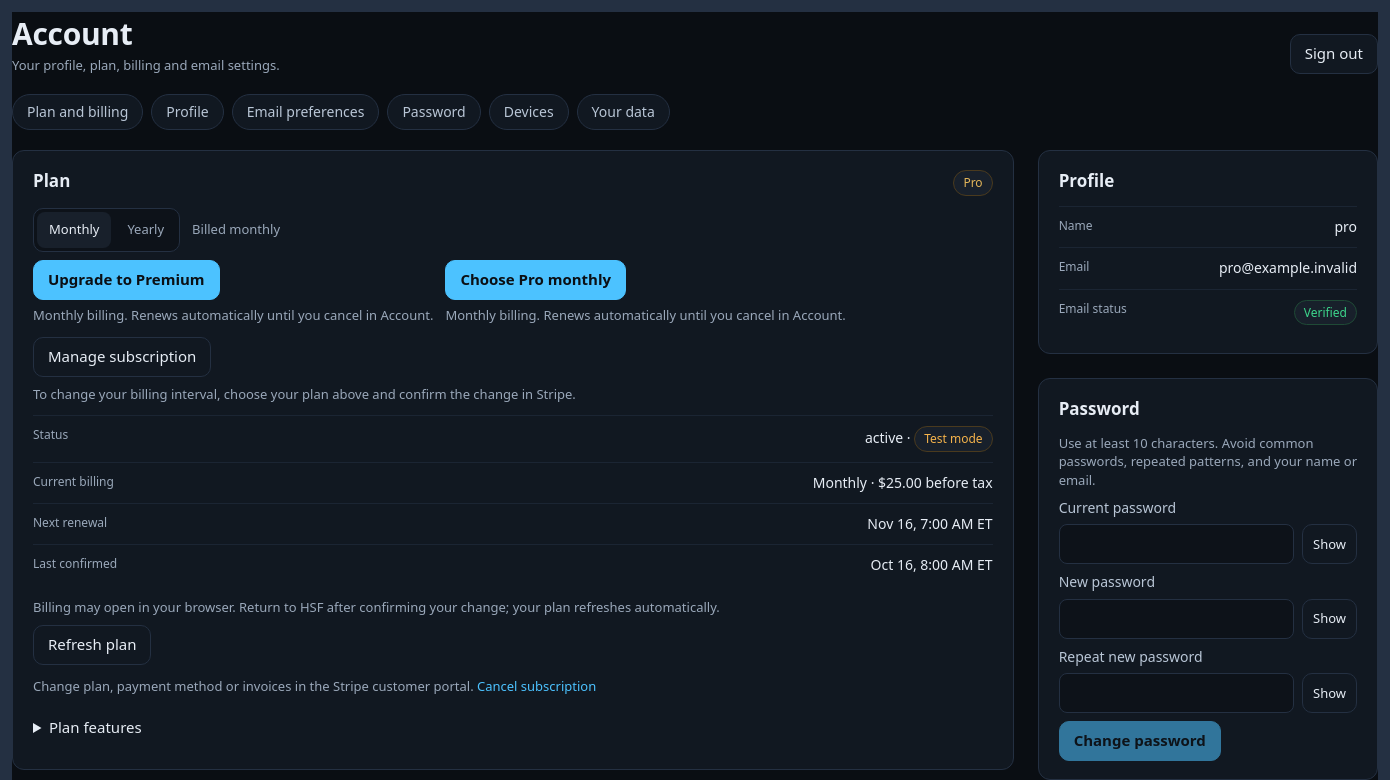
it: Account › shows the confirmed billing interval and renewal date independently of the next checkout choice
The image size is (1390, 780).
Expected: the text "Monthly · $25.00 before tax" is shown, [813,473,993,493]
Expected: the text "Next renewal" is shown, [33,514,107,534]
Step 1. Click the radio button labelled "Yearly" → (146,229), box [127,220,164,238]
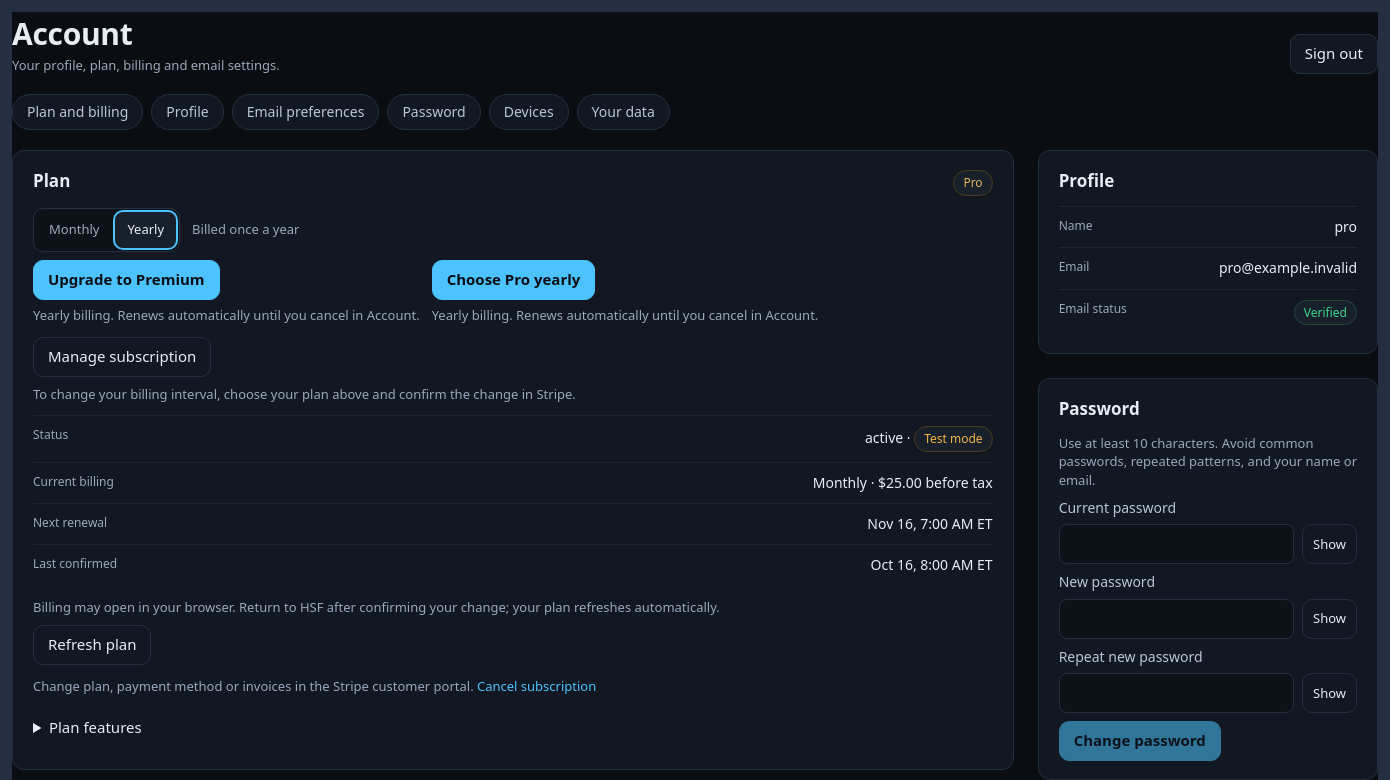
Expected: the text "Monthly · $25.00 before tax" is shown, [813,473,993,493]
Result: the button "Choose Pro yearly" is shown at [432,260,595,300]
